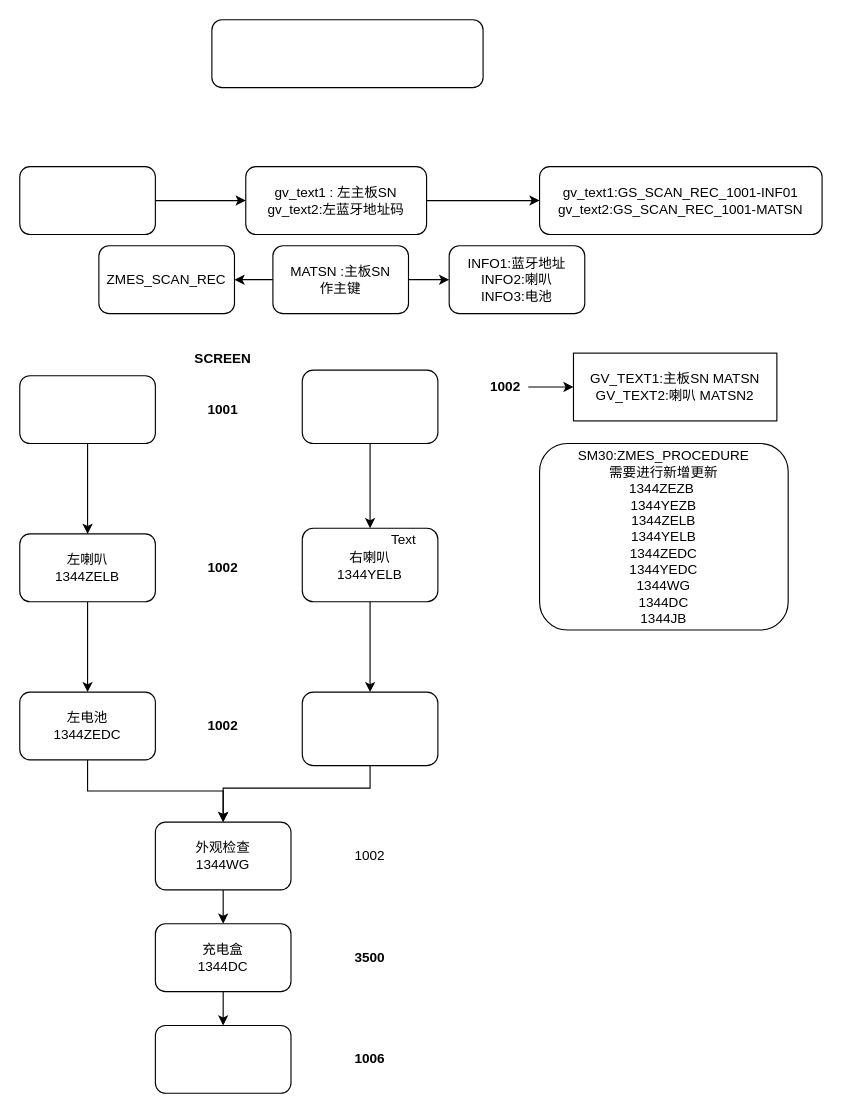
Image size: 842x1113. Some labels were removed from this diagram. Here are the shapes that lost their labels. From the top down, the centre of each, then its label:
At (347,53): "gv_psmng:订单项目计划总数量 afpo".
At (87,200): "左耳".
At (87,409): "左主板 1344ZEZB".
At (369,406): "右主板 1344YEZB".
At (369,728): "右电池 1344YEDC".
At (222,1058): "解绑 1344JB".
